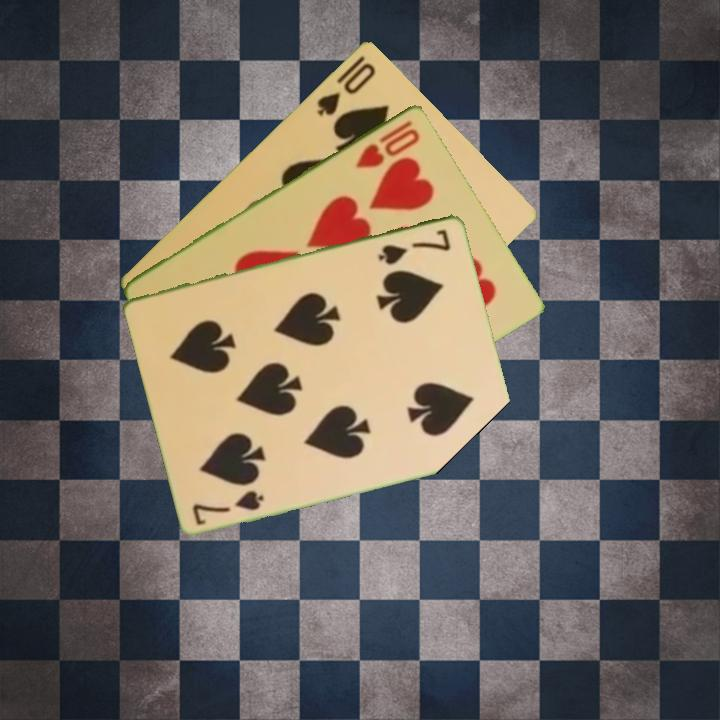10h: (351, 116, 423, 171)
10s: (313, 59, 379, 119)
7s: (375, 225, 454, 267), (189, 486, 267, 528)
